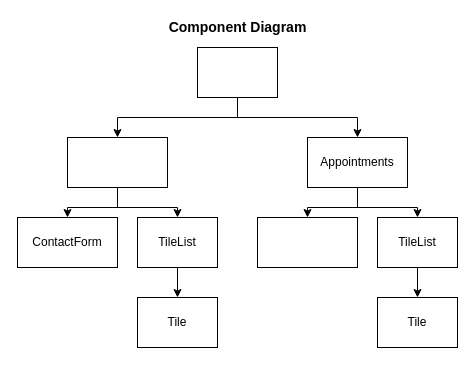
This 475x365 diagram has some shape labels left out. The box of each missing label's shape, as (x1, y1, x2, y2) in pixels:
App: (196, 46, 278, 98)
AppointmentForm: (256, 216, 358, 268)
Contacts: (66, 136, 168, 188)
